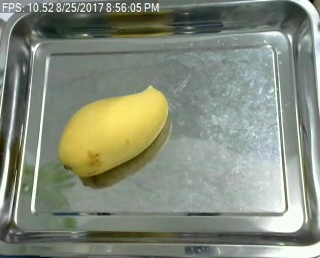Mango: (58, 83, 170, 177)
